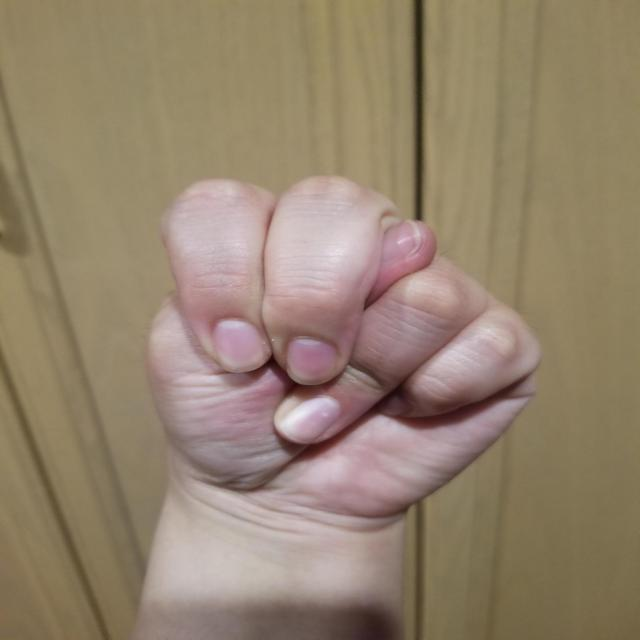N: (129, 170, 550, 524)
